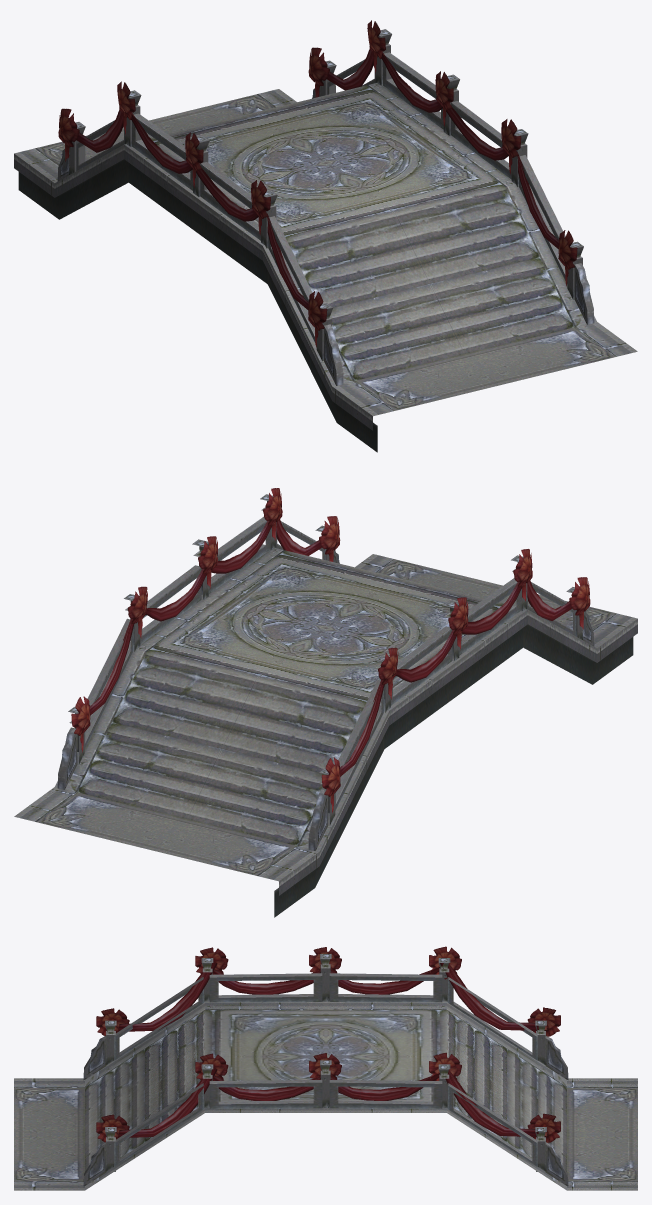
The model's file is zc_suzhou_shiqiao02.FBX.
The picture shows the model from 3 angles, top to bottom: view 1: azimuth 30°, elevation 25°; view 2: azimuth 150°, elevation 25°; view 3: azimuth 270°, elevation 25°; orthographic projection. The views are drawn at different scales.
Visible parts, largest first — view 1: zc_suzhou_shiqiao02; view 2: zc_suzhou_shiqiao02; view 3: zc_suzhou_shiqiao02.
Part boxes in pixels (x1,y1,x2,y2): zc_suzhou_shiqiao02: (14,20,637,452); zc_suzhou_shiqiao02: (14,488,637,917); zc_suzhou_shiqiao02: (14,946,637,1190).
Bounding box in the file's own units: 713 × 477 × 1634.
